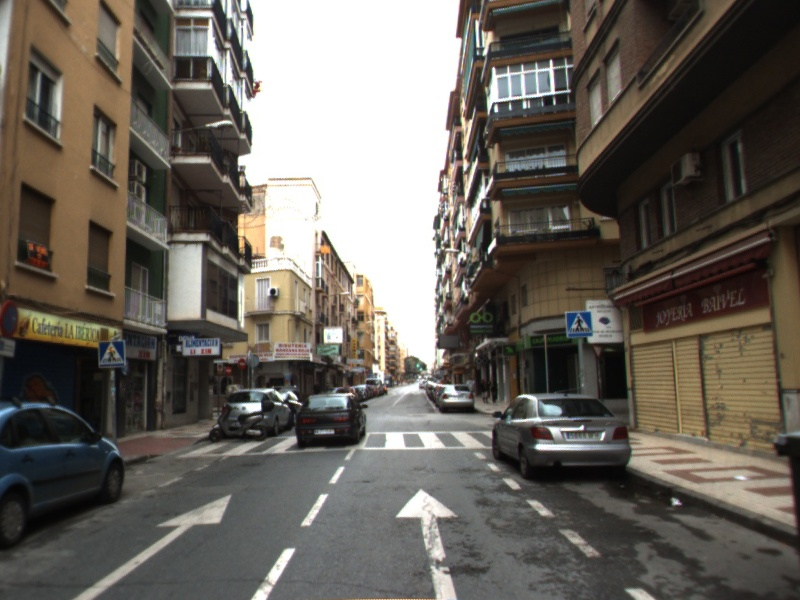STRAIGHT: (69, 489, 235, 600), (392, 483, 462, 600)
